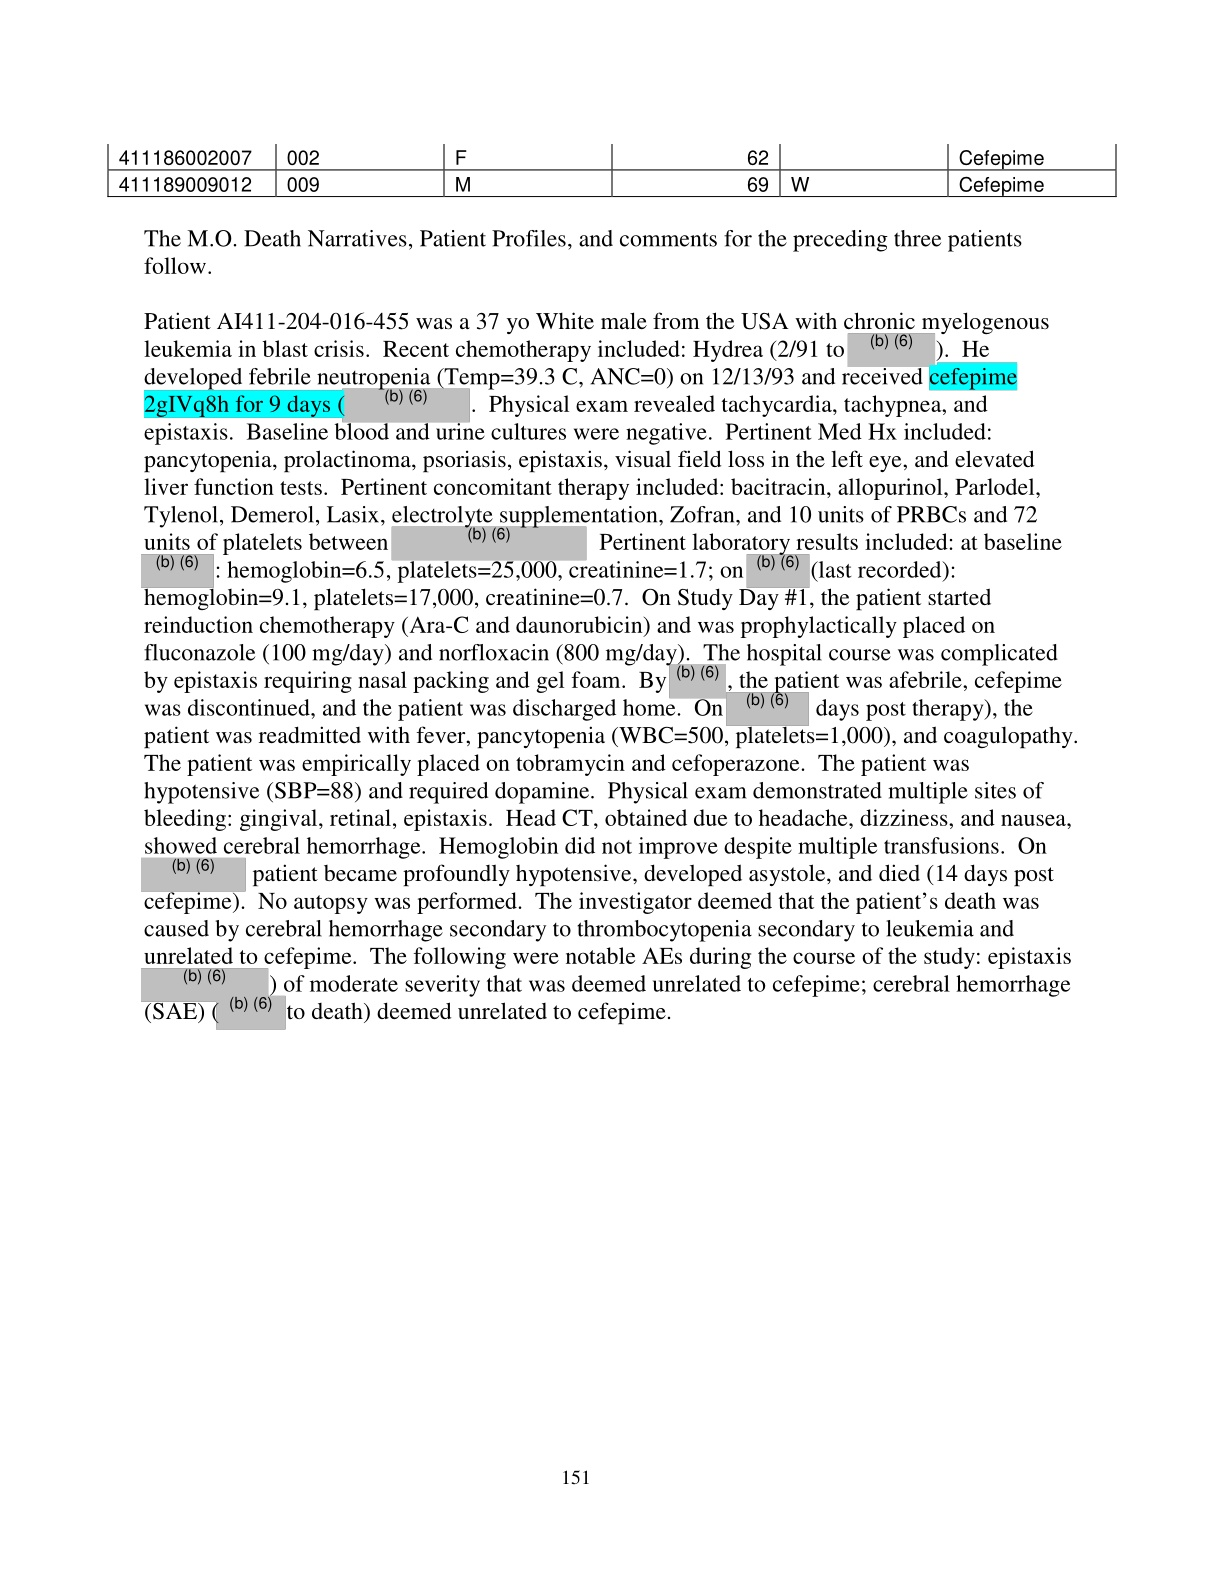partial_lined: (105, 141, 1119, 199)
